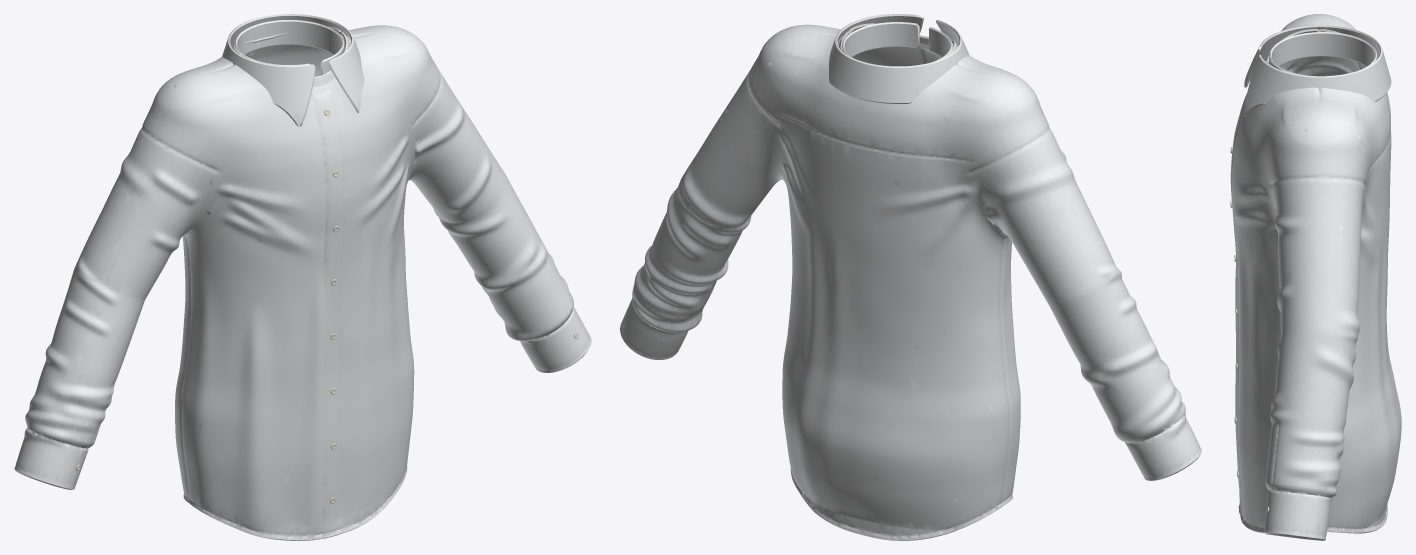
File: 01_camisa_formal_pbr.glb
The picture shows the model from 3 angles, left to right: view 1: azimuth 30°, elevation 25°; view 2: azimuth 150°, elevation 25°; view 3: azimuth 270°, elevation 25°; orthographic projection. The views are drawn at different scales.
Parts seen in each view (by area): view 1: Camiseta PBR; view 2: Camiseta PBR; view 3: Camiseta PBR.
Part boxes in pixels (x1,y1,x2,y2): Camiseta PBR: (14,14,591,540); Camiseta PBR: (620,14,1201,540); Camiseta PBR: (1230,14,1401,540).
Bounding box in the file's own units: 0.9989 × 0.7856 × 0.2652.
Materials: 2 (1 with a texture image).
